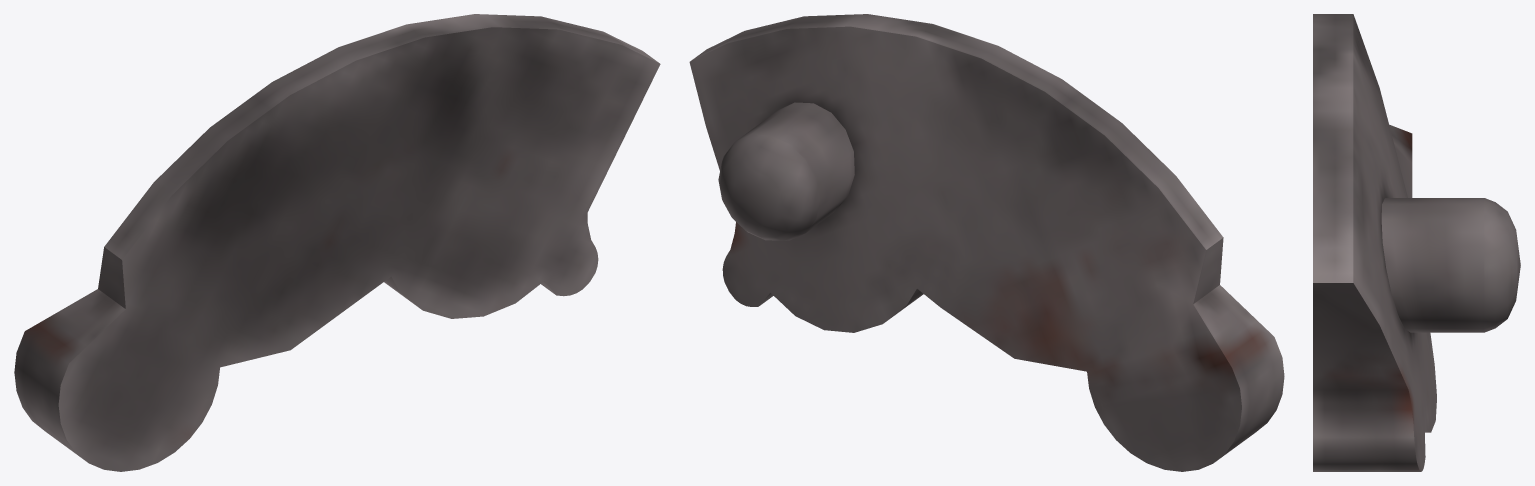
The model's file is SM_Brimstone_01e.fbx.
The picture shows the model from 3 angles, left to right: view 1: azimuth 30°, elevation 25°; view 2: azimuth 150°, elevation 25°; view 3: azimuth 270°, elevation 25°; orthographic projection. The views are drawn at different scales.
Parts seen in each view (by area): view 1: SM_Brimstone_01e_LOD0; view 2: SM_Brimstone_01e_LOD0; view 3: SM_Brimstone_01e_LOD0.
Part boxes in pixels (bbox=[...]): SM_Brimstone_01e_LOD0: bbox=[14, 14, 660, 471]; SM_Brimstone_01e_LOD0: bbox=[689, 14, 1284, 471]; SM_Brimstone_01e_LOD0: bbox=[1313, 14, 1520, 471].
Bounding box in the file's own units: 3.52 × 0.9381 × 2.03.
